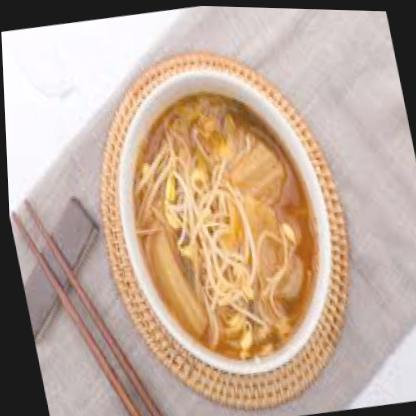bean sprout soup: (102, 55, 347, 377)
